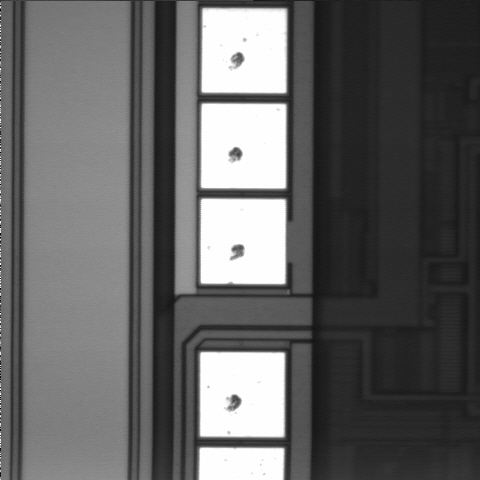pad: (201, 104, 286, 189), (201, 199, 286, 284), (200, 352, 285, 437), (202, 8, 286, 93)
